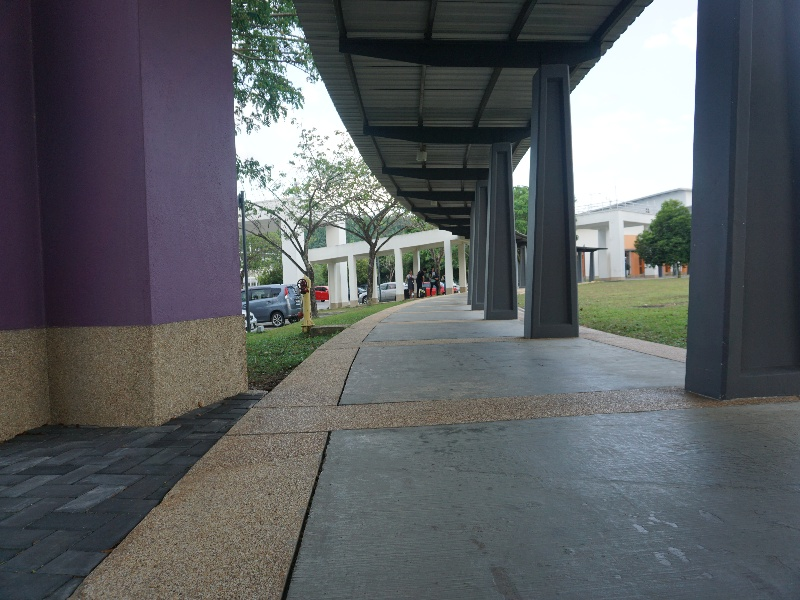Block D Pillar 7: (8, 3, 800, 464)
pillar: (9, 1, 242, 426), (692, 4, 797, 405), (525, 58, 592, 343), (481, 137, 522, 324)
